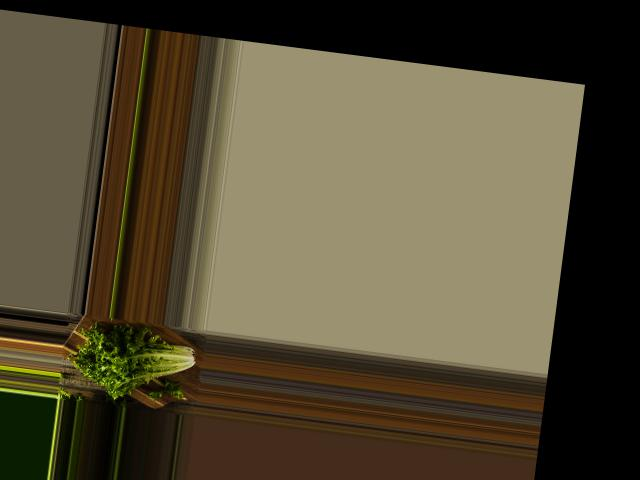lettuce: (69, 317, 205, 407)
